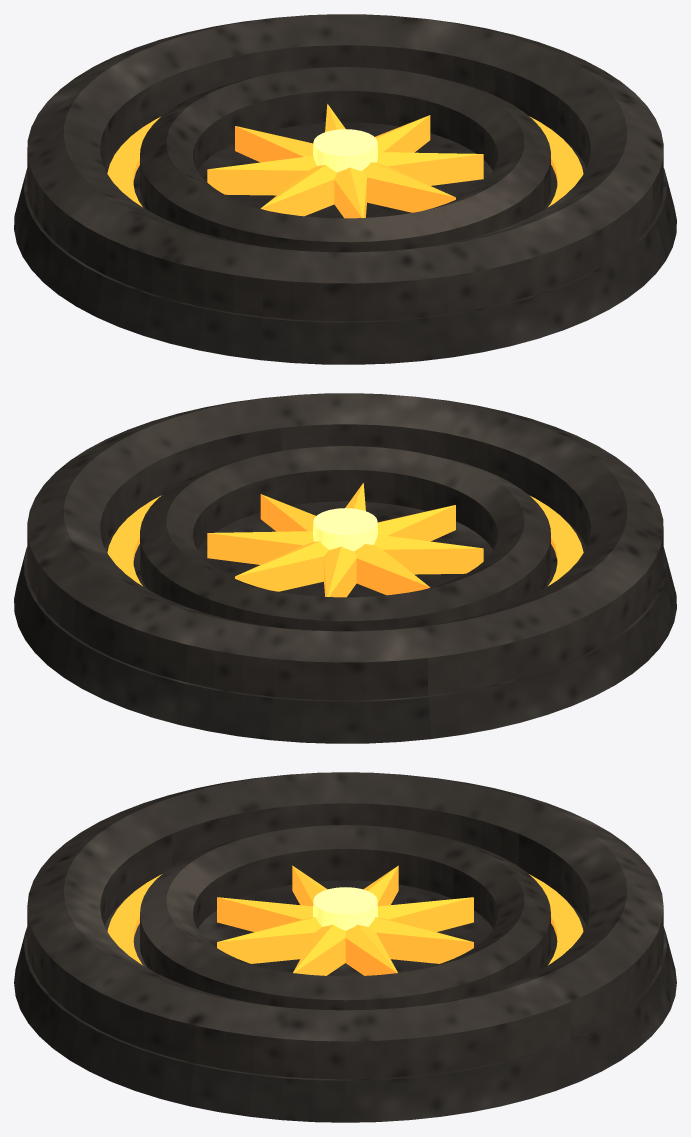
Rendered from CREMana02.glb.
The picture shows the model from 3 angles, top to bottom: view 1: azimuth 30°, elevation 25°; view 2: azimuth 150°, elevation 25°; view 3: azimuth 270°, elevation 25°; orthographic projection.
Visible parts, largest first — view 1: floor; view 2: floor; view 3: floor.
Boxes of the visible parts, x1,y1,x2,y2 form: floor: (14, 14, 676, 364); floor: (14, 393, 676, 743); floor: (14, 772, 676, 1122).
Bounding box in the file's own units: 1.91 × 0.29 × 1.91.
3 materials, 1 textured.
